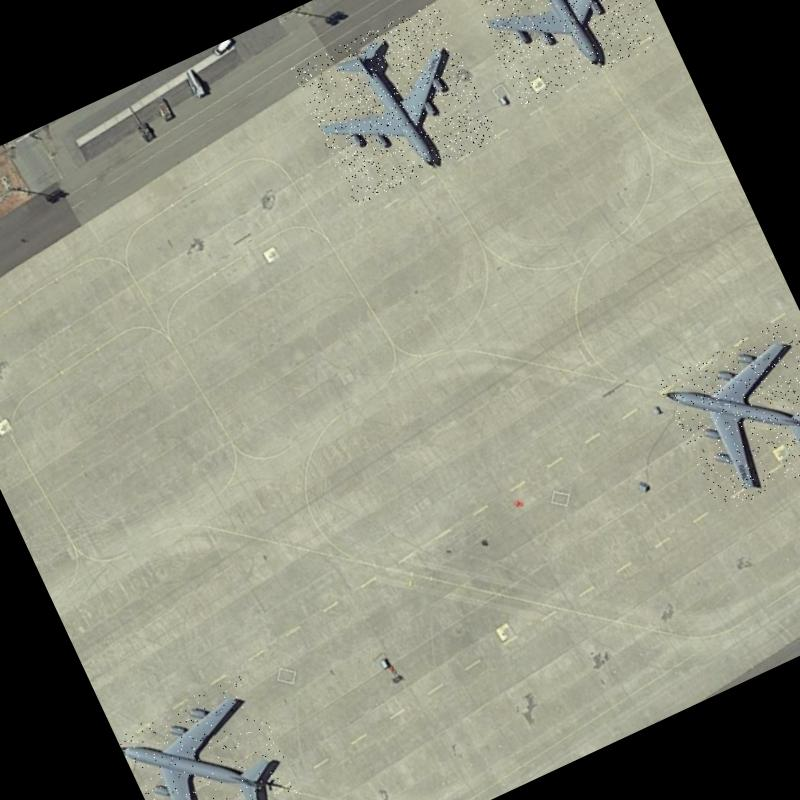A14: (289, 0, 500, 206), (656, 314, 800, 514), (114, 671, 307, 800), (458, 0, 662, 109)
